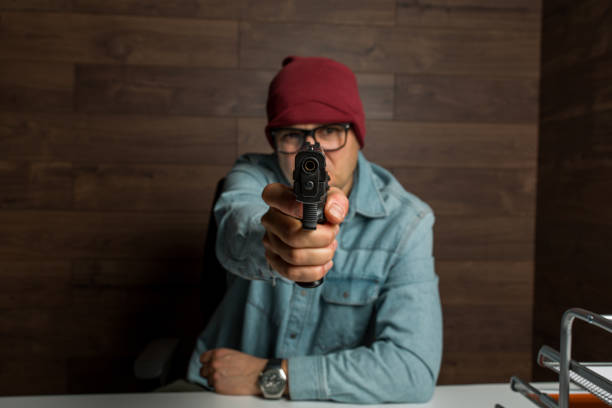gun: (291, 141, 330, 231)
